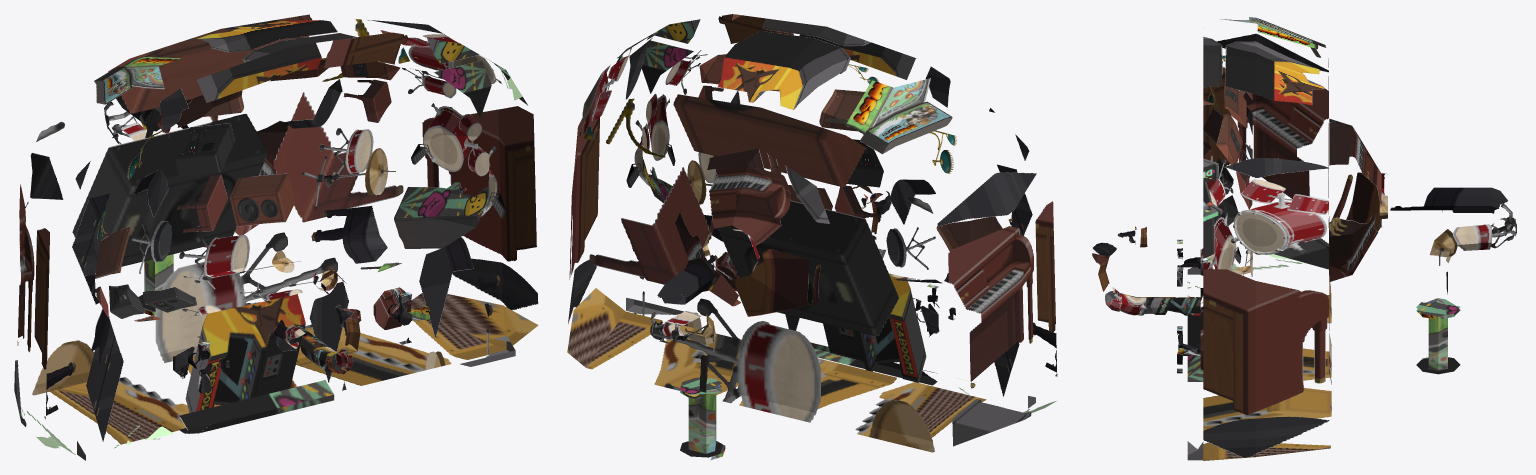
3 renders of one model, left to right at view 1: azimuth 30°, elevation 25°; view 2: azimuth 150°, elevation 25°; view 3: azimuth 270°, elevation 25°, orthographic. The views are drawn at different scales.
Size of the model in its own units: 0.6694 by 0.4628 by 0.5783.
